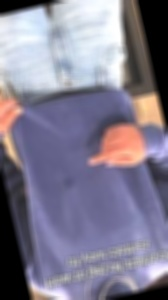oil: (91, 116, 116, 135), (86, 133, 101, 150), (60, 179, 76, 194)
